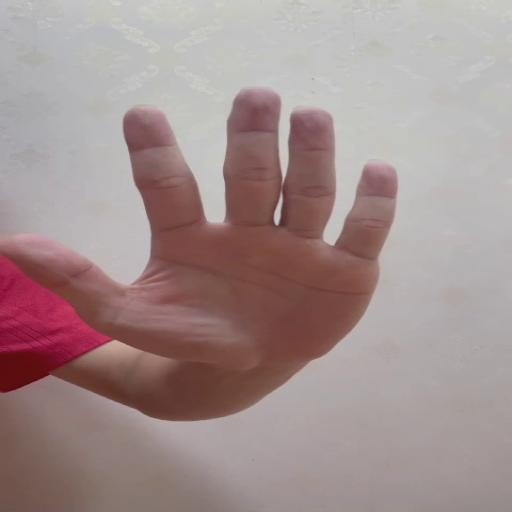open_palm: (0, 82, 399, 365)
